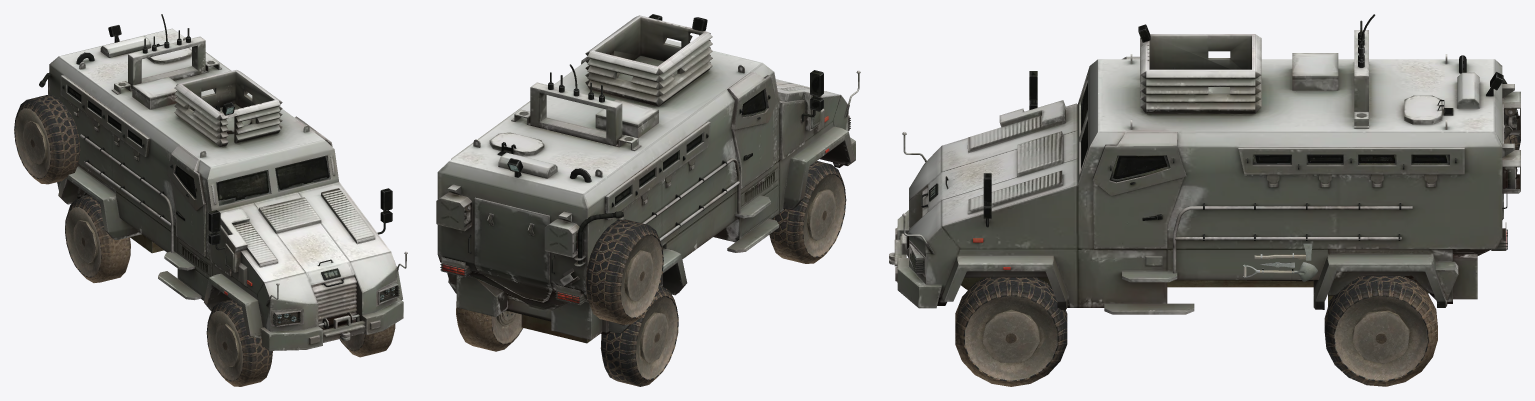
File: mrap.glb
3 views of the same model, side by side, from view 1: azimuth 30°, elevation 25°; view 2: azimuth 150°, elevation 25°; view 3: azimuth 270°, elevation 25° (orthographic). The views are drawn at different scales.
Parts seen in each view (by area): view 1: Object_5, Object_4, Object_2; view 2: Object_5, Object_4, Object_2; view 3: Object_5, Object_4, Object_2.
Boxes of the visible parts, x1,y1,x2,y2 form: Object_5: [48, 28, 407, 350]; Object_4: [14, 95, 395, 386]; Object_2: [39, 14, 399, 325]; Object_5: [436, 15, 860, 340]; Object_4: [456, 161, 846, 386]; Object_2: [440, 14, 850, 343]; Object_5: [889, 30, 1520, 314]; Object_4: [955, 110, 1520, 386]; Object_2: [910, 14, 1507, 305].
Size of the model in its own units: 302 by 411 by 719.
Materials: 3 (3 with a texture image).
